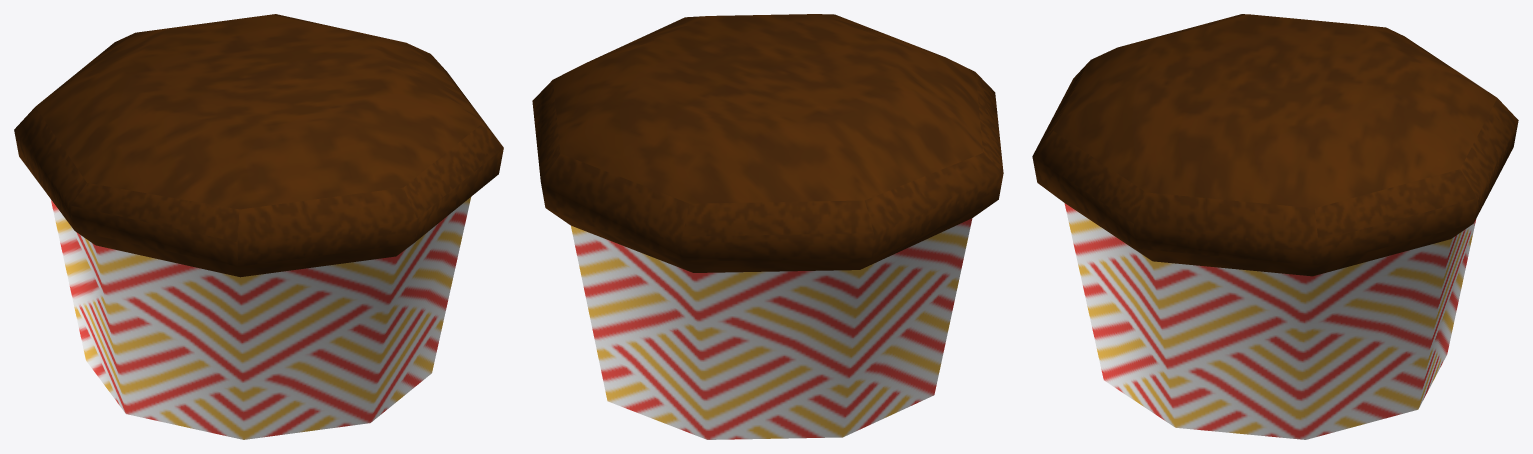
The model's file is Muffin_Plain_01.FBX.
The picture shows the model from 3 angles, left to right: view 1: azimuth 30°, elevation 25°; view 2: azimuth 150°, elevation 25°; view 3: azimuth 270°, elevation 25°; orthographic projection.
Parts seen in each view (by area): view 1: Muffin_B; view 2: Muffin_B; view 3: Muffin_B.
Boxes of the visible parts, x1=… form: Muffin_B: x1=14, y1=14, x2=503, y2=439; Muffin_B: x1=532, y1=14, x2=1003, y2=439; Muffin_B: x1=1032, y1=14, x2=1518, y2=439.
Bounding box in the file's own units: 36.61 × 24.52 × 36.61.
